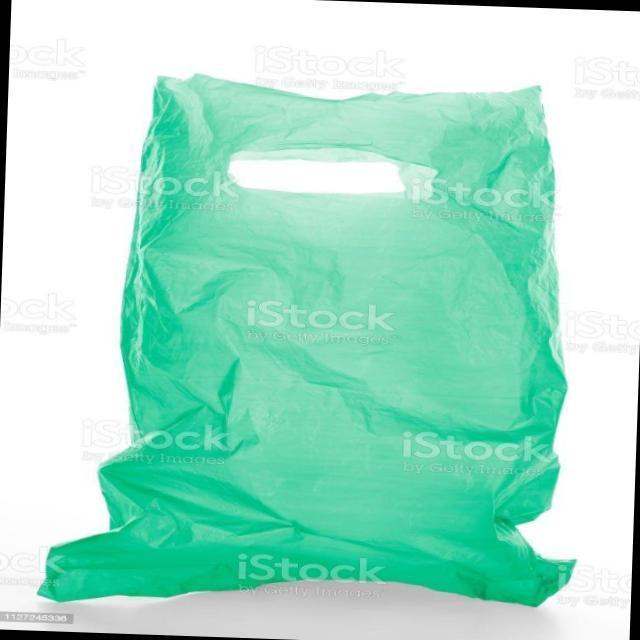Plastic_Bag: (96, 62, 594, 636)
